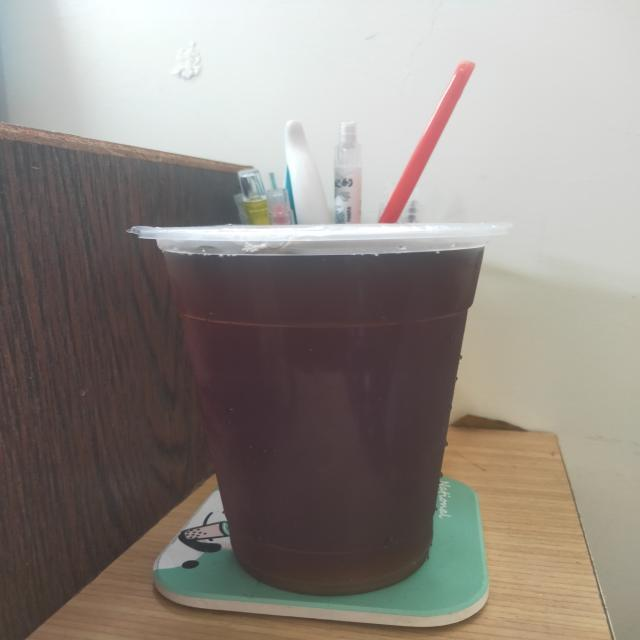ZaoTsan_BlackTea: (126, 207, 519, 611)
